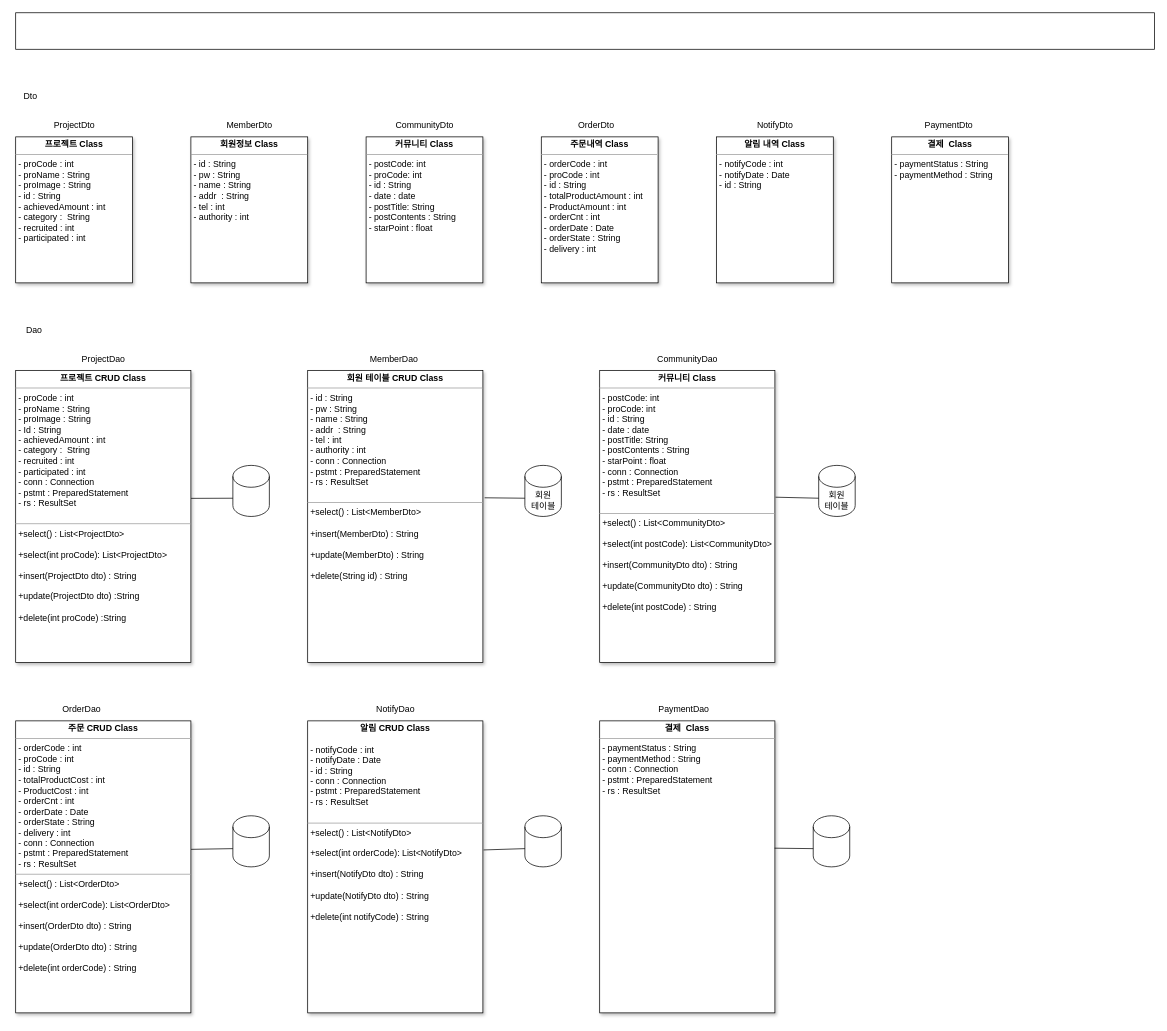
The diagram is 1167 pixels wide and 1031 high, and some of its shapes have lost their labels. Here are the shapes that lost their labels. From the top down, the centre of each, then its label:
At point 584,30: "Persistence Layer(영속 계층) - DB 연결영역, 왠만해선 바뀌지 않는다".
At point 250,490: "프로젝트 테이블".
At point 250,841: "주문 테이블".
At point 542,841: "예약 테이블".
At point 831,841: "결제 테이블".
